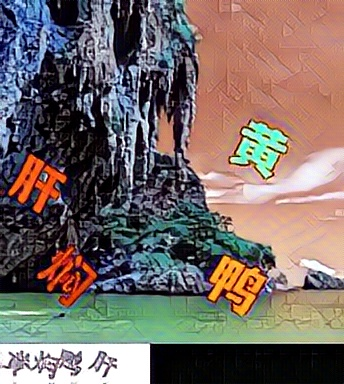B8CE: (7, 151, 68, 216)
BBC6: (229, 116, 290, 181)
D1BC: (206, 253, 267, 318)
ECCB: (37, 244, 98, 309)
